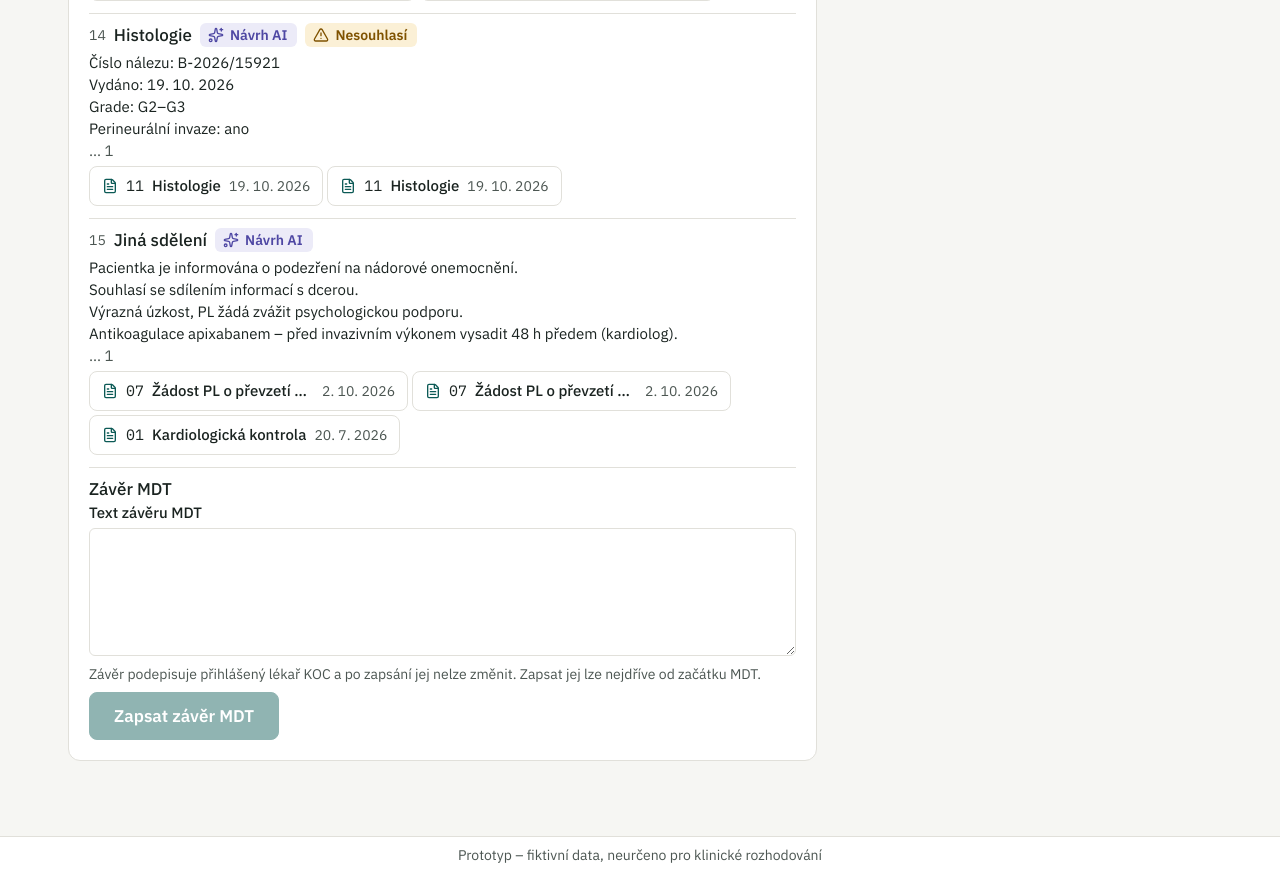
Zapsat závěr MDT (Lékař KOC) › a role denial (403 forbidden_role) shows the API's Czech title with its detail
The image size is (1280, 873).
(page scrolled)
Type "Závěr" into the text box labelled "Text závěru MDT" at (443, 592), box [89,528,796,656]
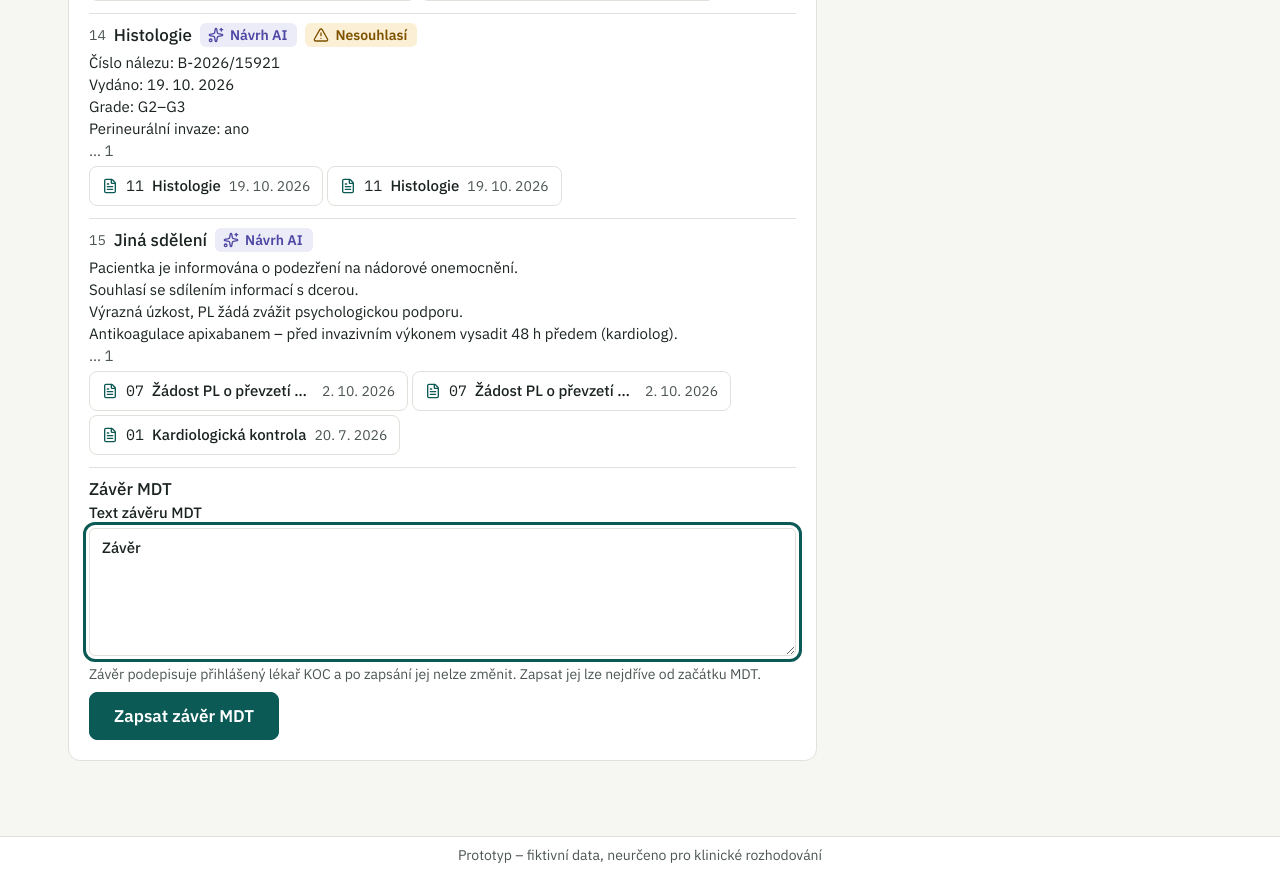
Click the button "Zapsat závěr MDT" at (184, 716), box [89,692,279,740]
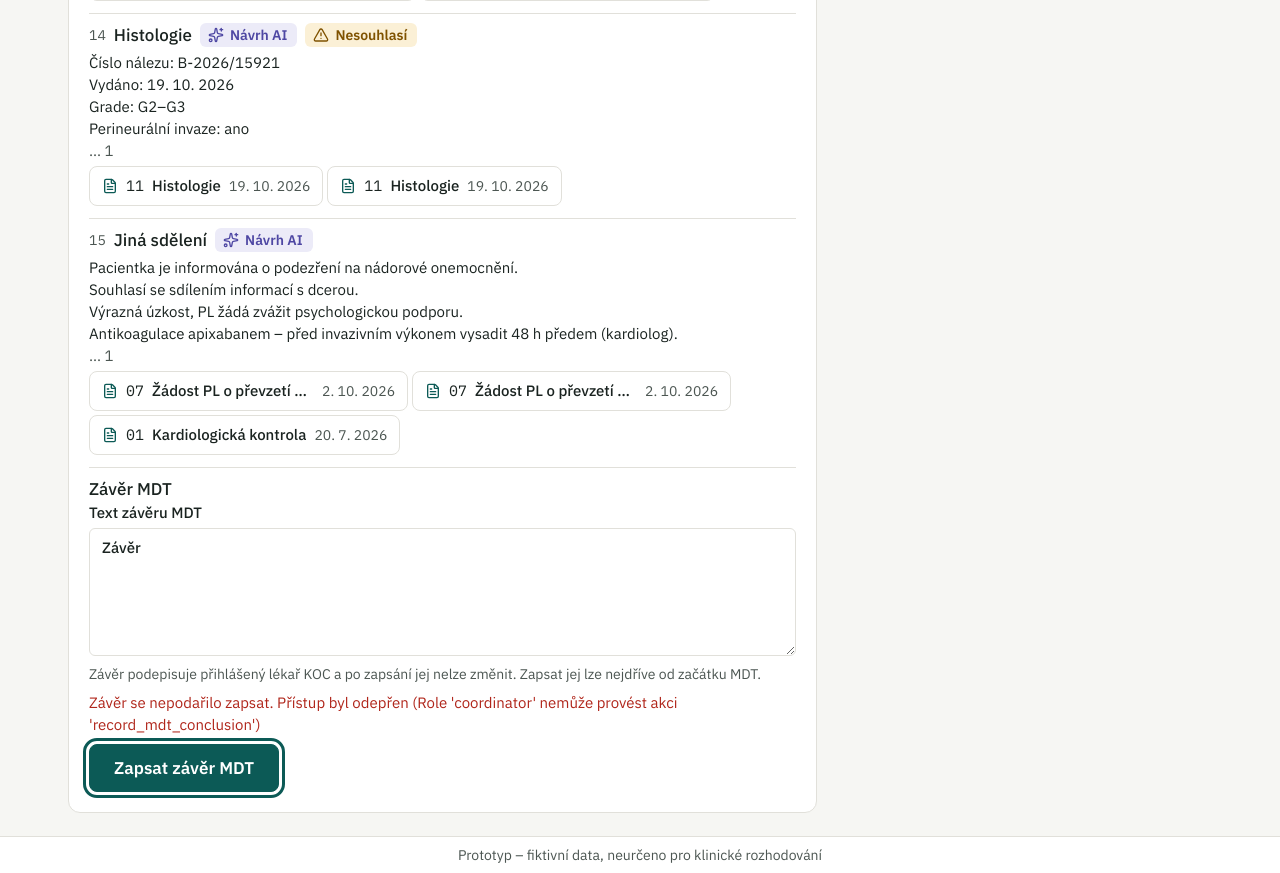
expect the message shows "Přístup byl odepřen (Role 'coordinator' nemůže provést akci 'record_mdt_conclusion')": met, box [89,693,678,734]
